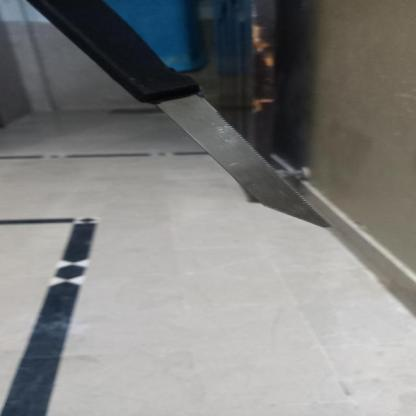Knife: (20, 1, 330, 226)
